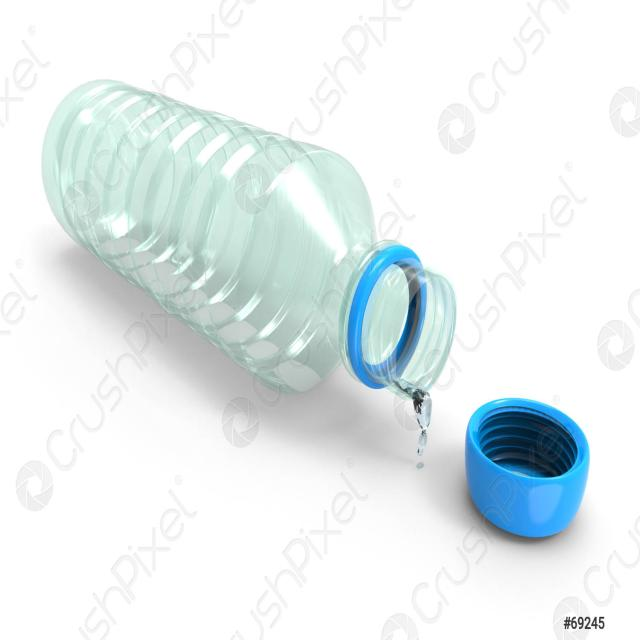plastic_bottle: (35, 58, 476, 421)
